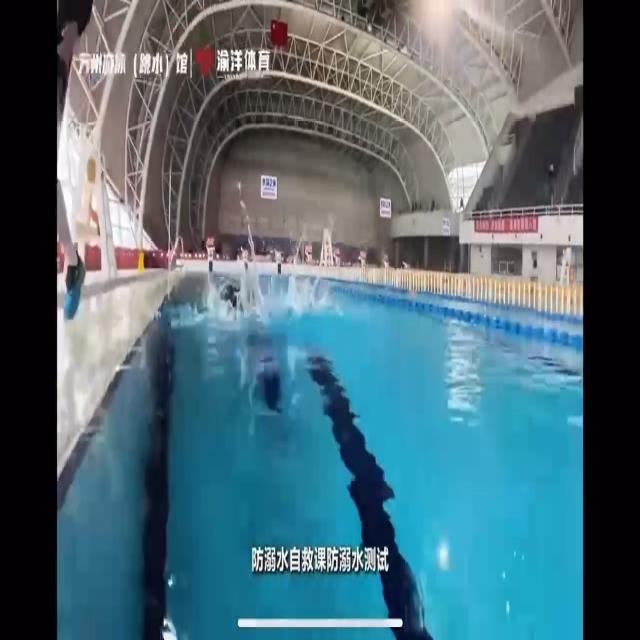Drowning: (212, 276, 290, 422)
